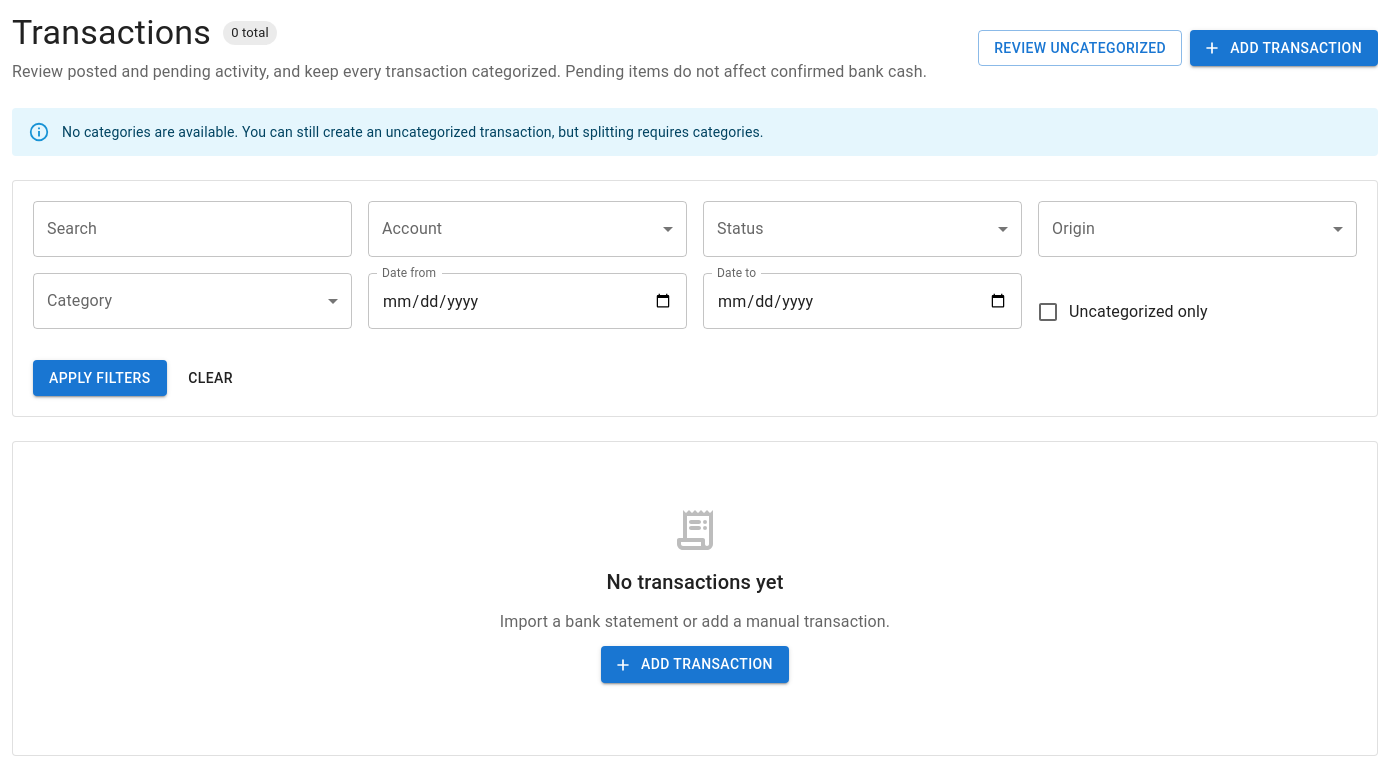
Scenario: transactions view states and tenant boundary › applies Search on Enter, validates dates, and clears filters
Type "  rent  " into the field labelled "Search".
click(192, 229); type("  rent  ")  # box top-left (33, 201), bottom-right (352, 257)
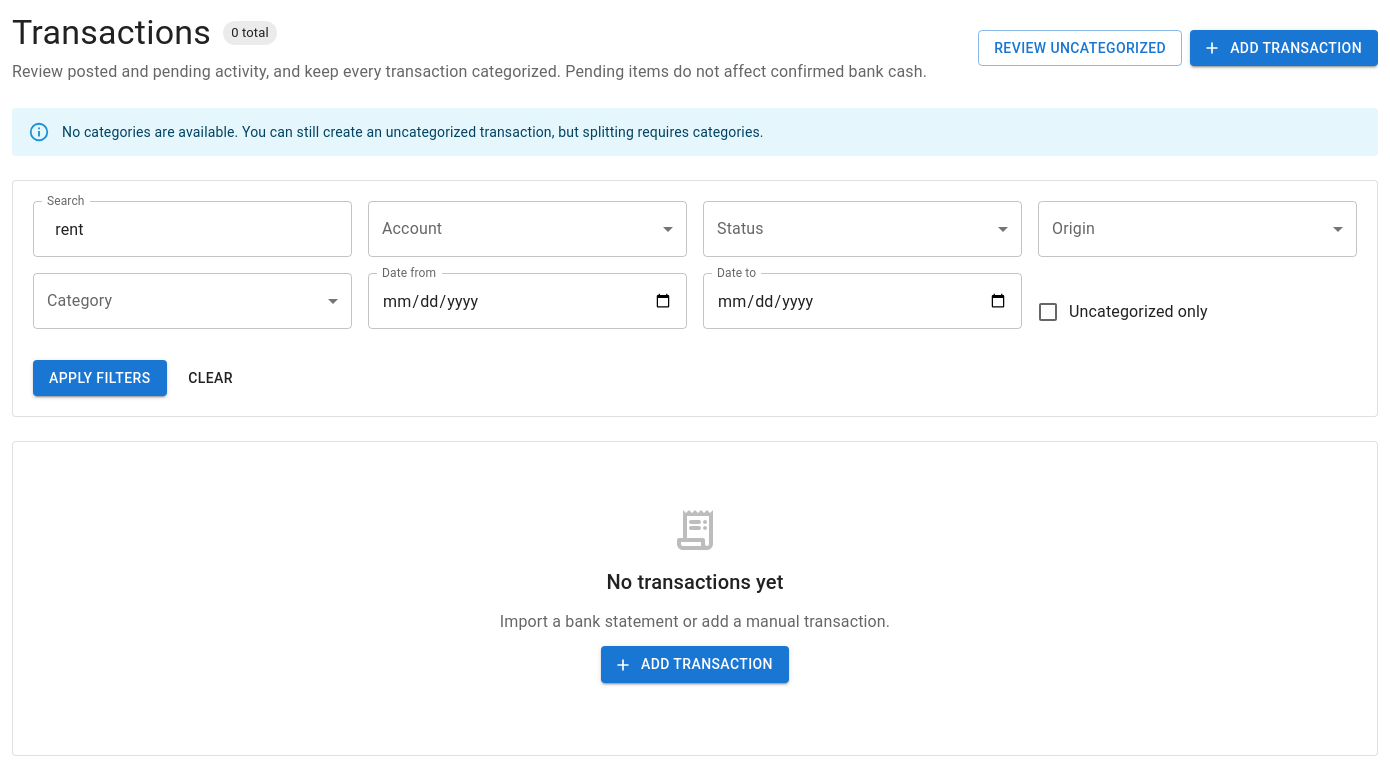
Press Enter in the field labelled "Search", box top-left (33, 201), bottom-right (352, 257)
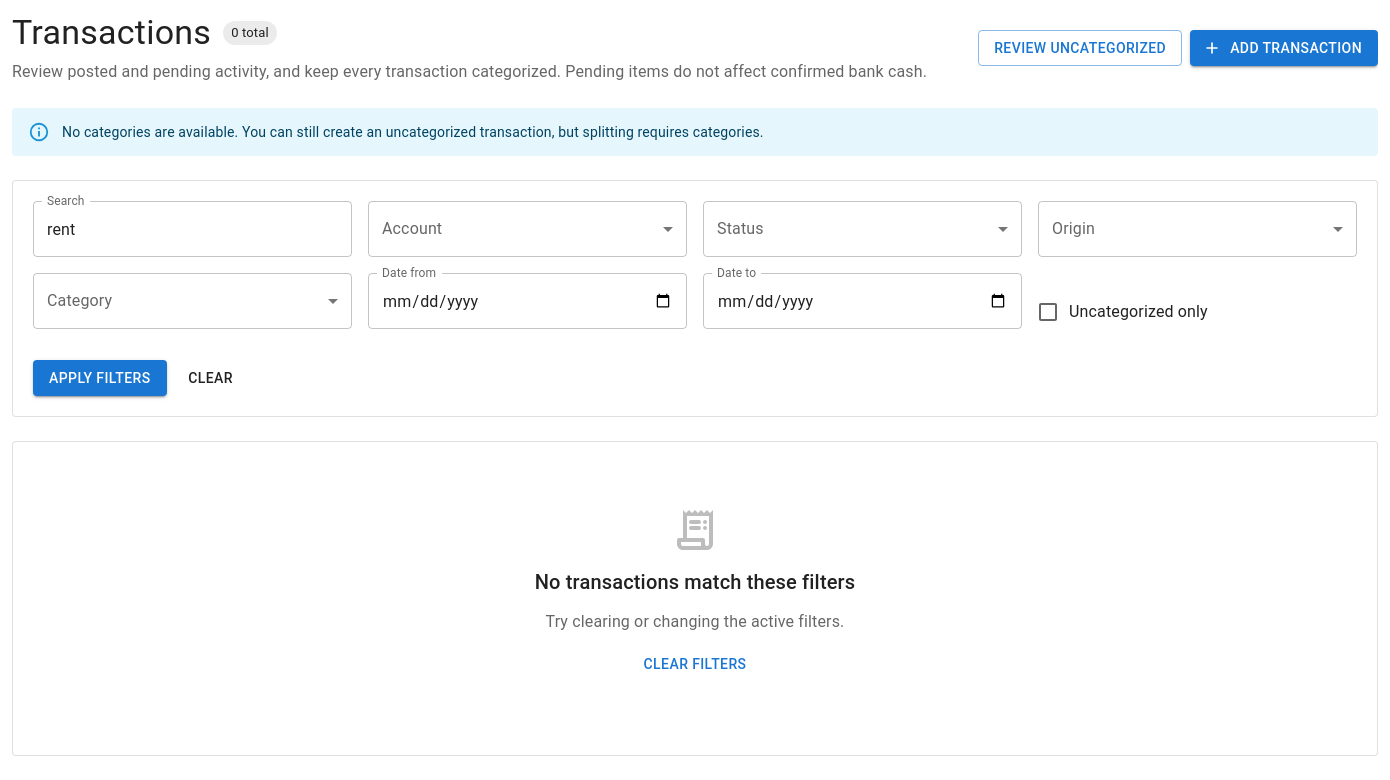
Type "2026-08-20" into the date field labelled "Date from".
click(528, 301); type("2026-08-20")  # box top-left (368, 273), bottom-right (687, 329)
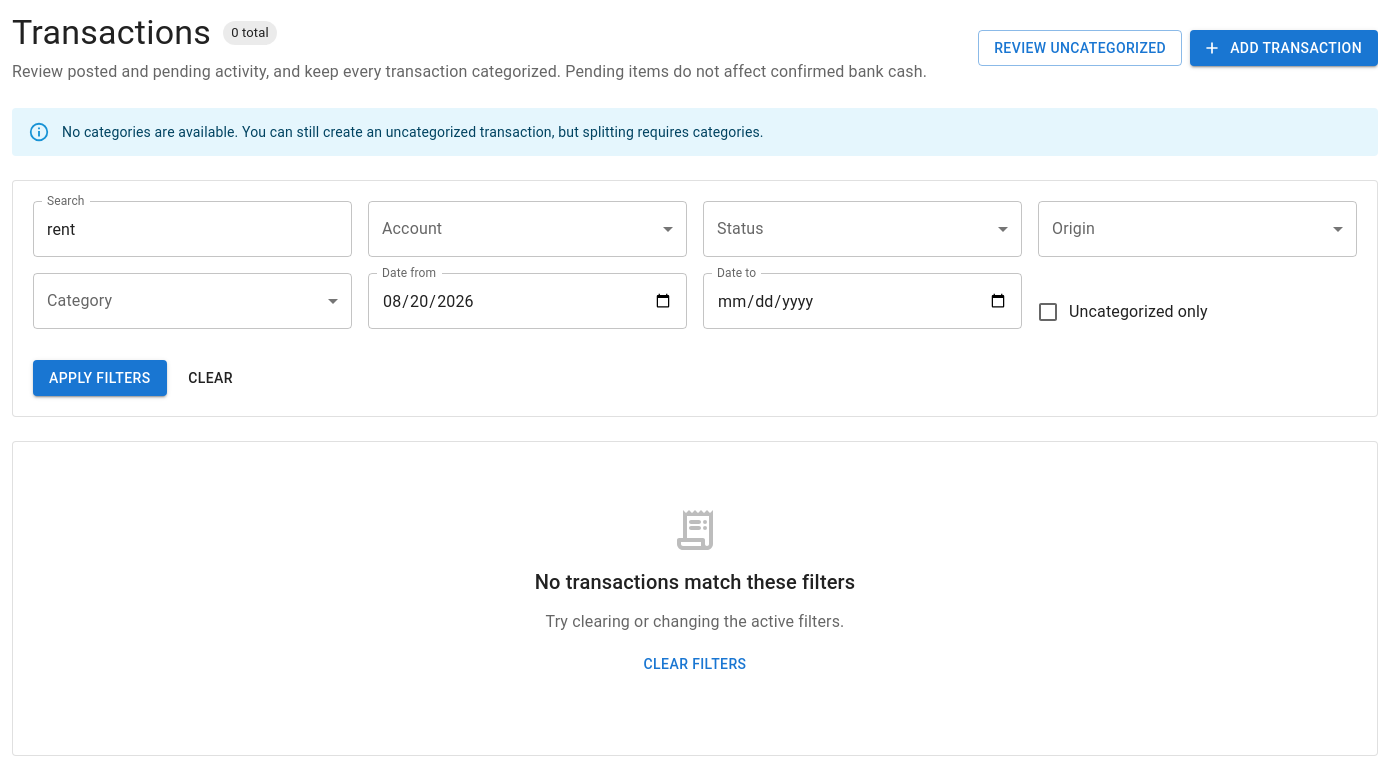
Type "2026-08-19" into the date field labelled "Date to".
click(862, 301); type("2026-08-19")  # box top-left (703, 273), bottom-right (1022, 329)
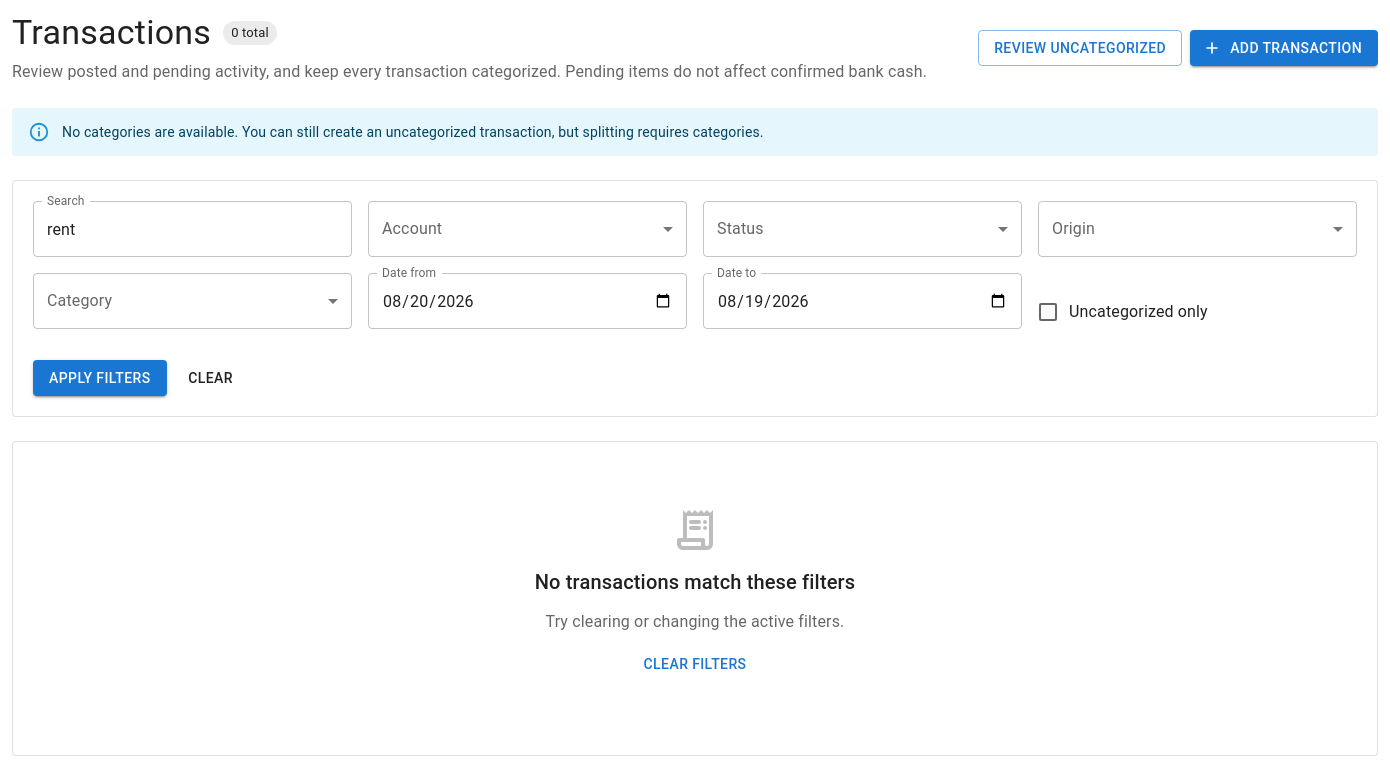
Click the button "Apply filters".
click(100, 378)  # box top-left (33, 360), bottom-right (167, 396)
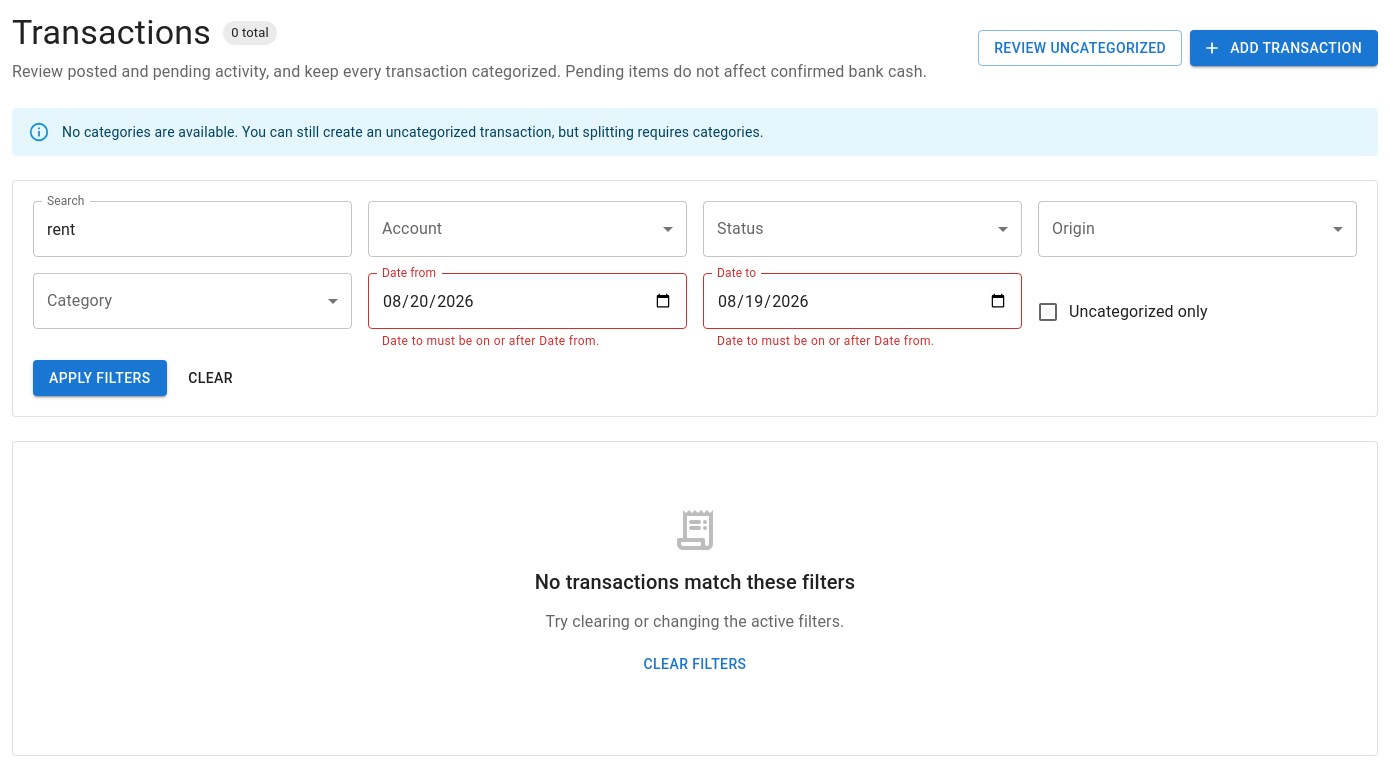
Check: the 1st text "Date to must be on or after Date from." is shown, box top-left (382, 334), bottom-right (600, 348)
Click the button "Clear".
click(211, 378)  # box top-left (179, 360), bottom-right (243, 396)
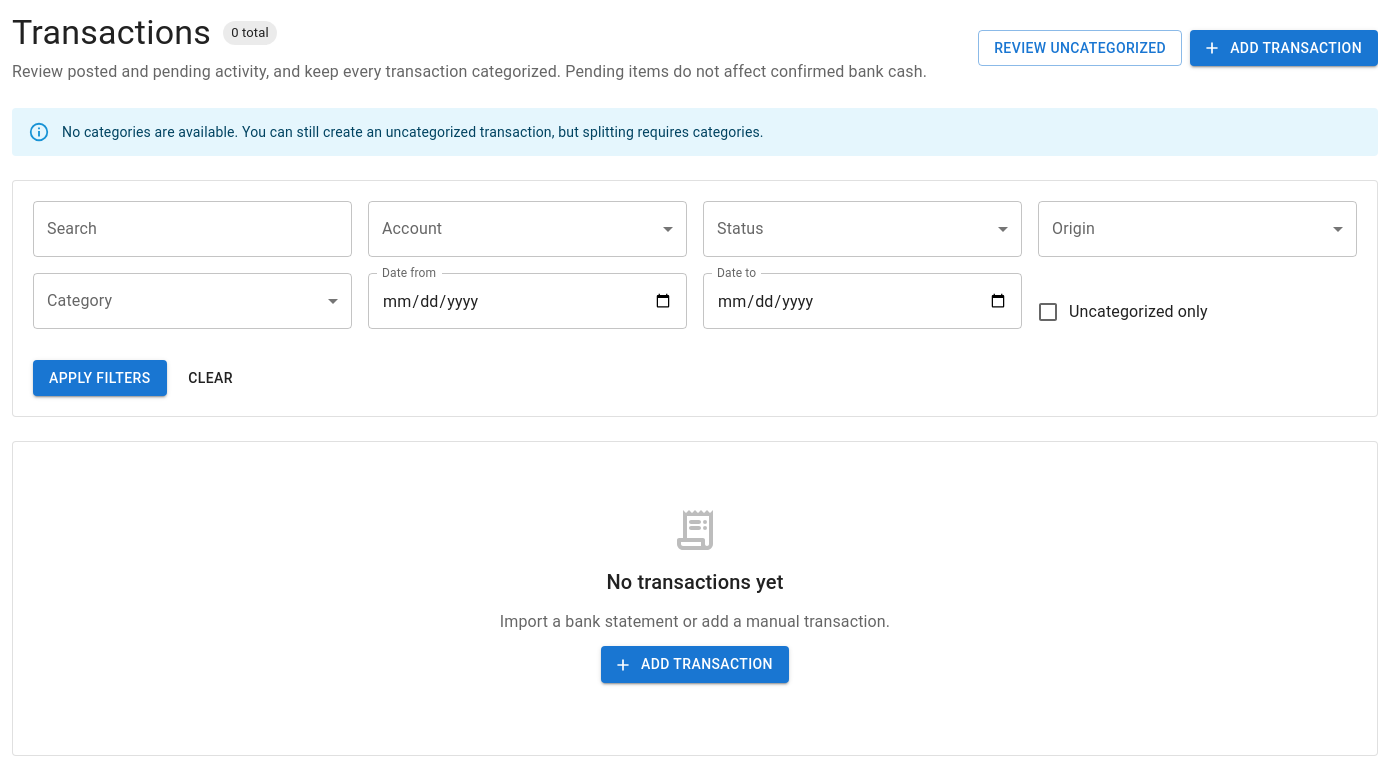
Check: the field labelled "Search" is empty, box top-left (33, 201), bottom-right (352, 257)
